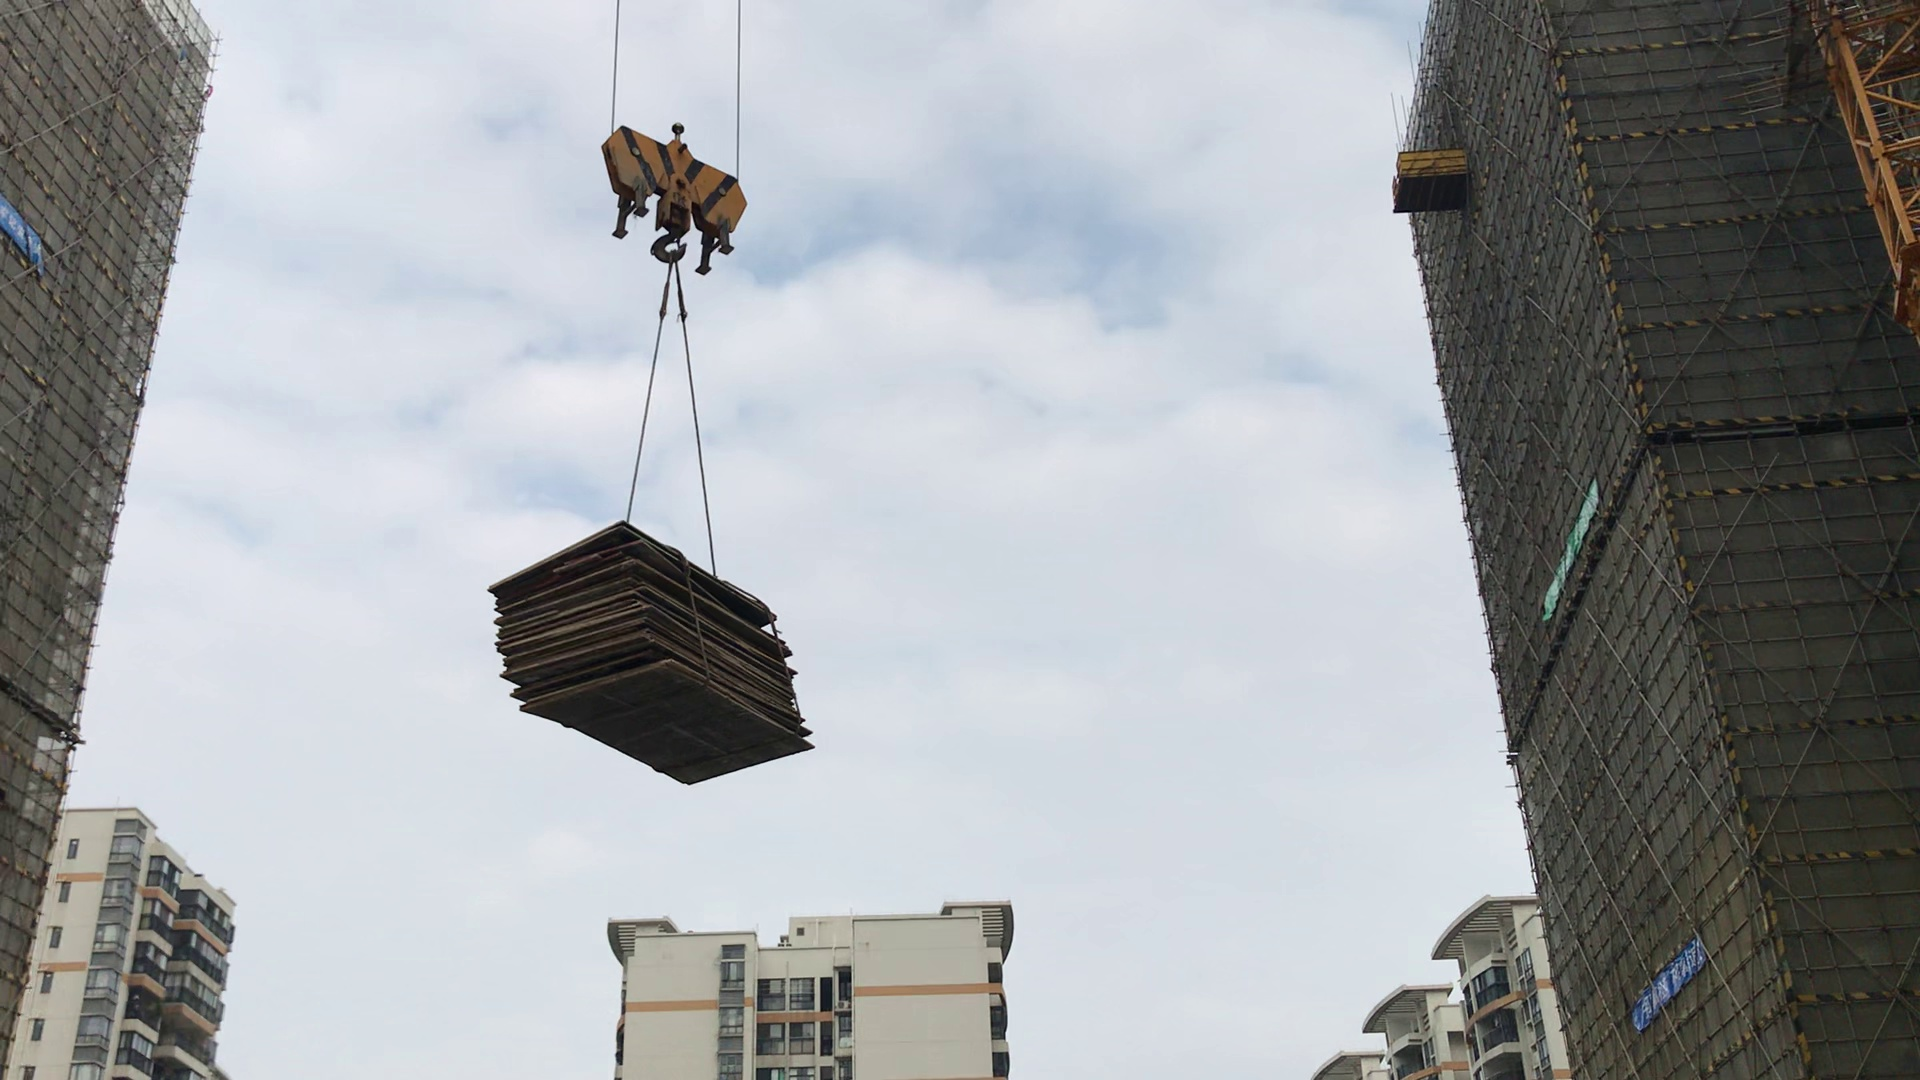board: (497, 537, 804, 787)
hook: (605, 124, 748, 280)
slogan: (1540, 484, 1600, 615), (1633, 943, 1708, 1034), (1, 195, 44, 273)
